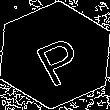P_NW: (24, 24, 86, 86)
